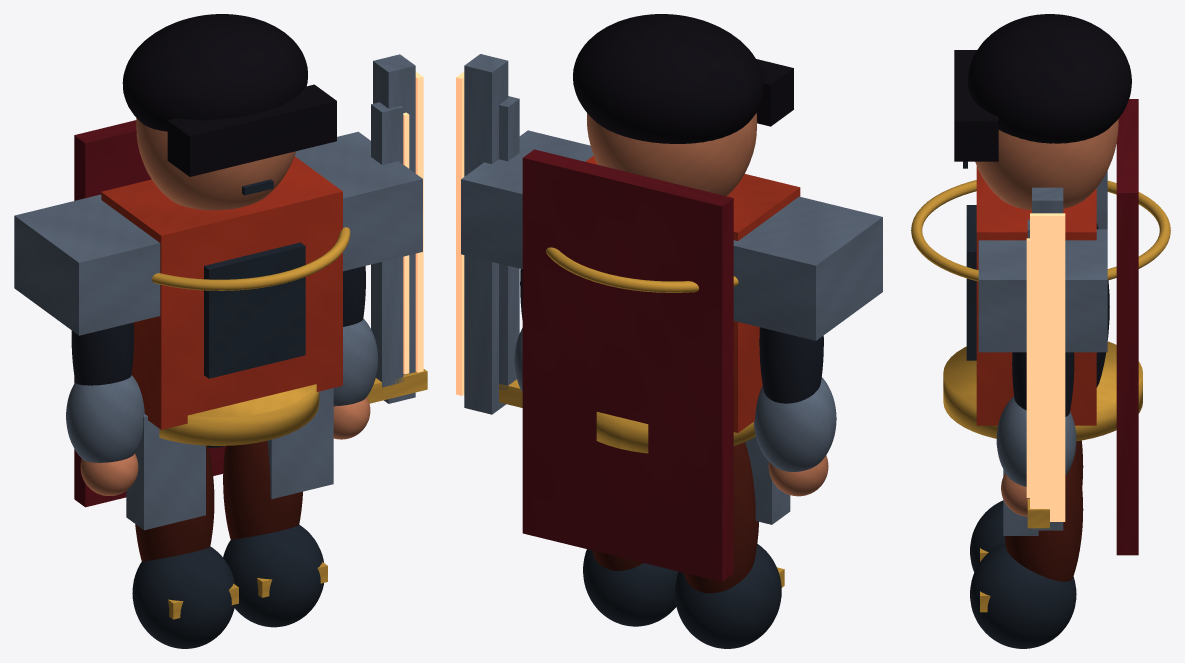
File: Foundation.glb
The picture shows the model from 3 angles, left to right: view 1: azimuth 30°, elevation 25°; view 2: azimuth 150°, elevation 25°; view 3: azimuth 270°, elevation 25°; orthographic projection. The views are drawn at different scales.
Visible parts, largest first — view 1: ChestPlate, Hair, SegmentedPauldron, ChestInset, SegmentedPauldron.001, HairFringe, Boot, Boot.001, Tasset, Head, SwordBlade, WaistGuard (+15 smaller); view 2: Cape, Hair, SegmentedPauldron, Greatsword, SegmentedPauldron.001, Head, Boot, ChestPlate, Gauntlet, Boot.001, Arm, SwordBlade (+7 smaller); view 3: Hair, GreatswordEdge, SegmentedPauldron.001, Cape, ChestPlate, Boot.001, Head, WaistGuard, Leg.001, HairFringe, ShoulderCrest, Gauntlet.001 (+10 smaller).
Boxes of the visible parts, <box> form: ChestPlate: <box>101,156,342,429</box>; Hair: <box>122,14,307,131</box>; SegmentedPauldron: <box>14,194,160,335</box>; ChestInset: <box>204,242,305,378</box>; SegmentedPauldron.001: <box>295,131,422,271</box>; HairFringe: <box>167,84,336,176</box>; Boot: <box>132,546,235,648</box>; Boot.001: <box>223,525,323,627</box>; Tasset: <box>126,414,205,530</box>; Head: <box>136,118,295,210</box>; SwordBlade: <box>371,102,403,387</box>; WaistGuard: <box>159,384,319,445</box>; Cape: <box>522,149,733,581</box>; Hair: <box>573,14,763,143</box>; SegmentedPauldron: <box>733,196,882,340</box>; Greatsword: <box>464,54,508,414</box>; SegmentedPauldron.001: <box>461,130,593,269</box>; Head: <box>587,113,757,196</box>; Boot: <box>674,544,781,648</box>; ChestPlate: <box>585,156,800,432</box>; Gauntlet: <box>754,377,836,471</box>; Boot.001: <box>583,549,678,626</box>; Arm: <box>759,327,823,403</box>; SwordBlade: <box>499,96,519,390</box>; Hair: <box>967,14,1131,143</box>; GreatswordEdge: <box>1030,213,1065,521</box>; SegmentedPauldron.001: <box>978,229,1107,352</box>; Cape: <box>1116,99,1138,555</box>; ChestPlate: <box>976,166,1096,425</box>; Boot.001: <box>970,542,1076,648</box>; Head: <box>975,119,1118,210</box>; WaistGuard: <box>943,341,1142,441</box>; Leg.001: <box>1004,451,1083,581</box>; HairFringe: <box>954,50,998,161</box>; ShoulderCrest: <box>911,180,1170,281</box>; Gauntlet.001: <box>996,396,1076,486</box>.
Bounding box in the file's own units: 1.93 × 2.96 × 1.17.
12 materials, 9 textured.
